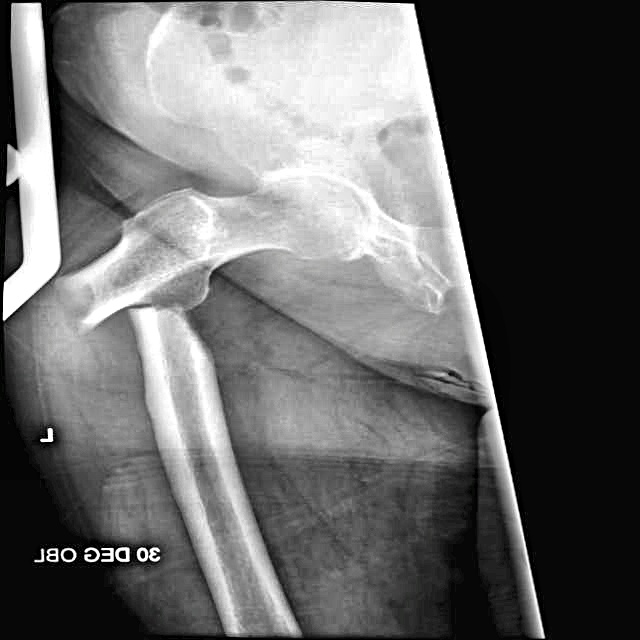Transverse: (47, 237, 228, 364)
